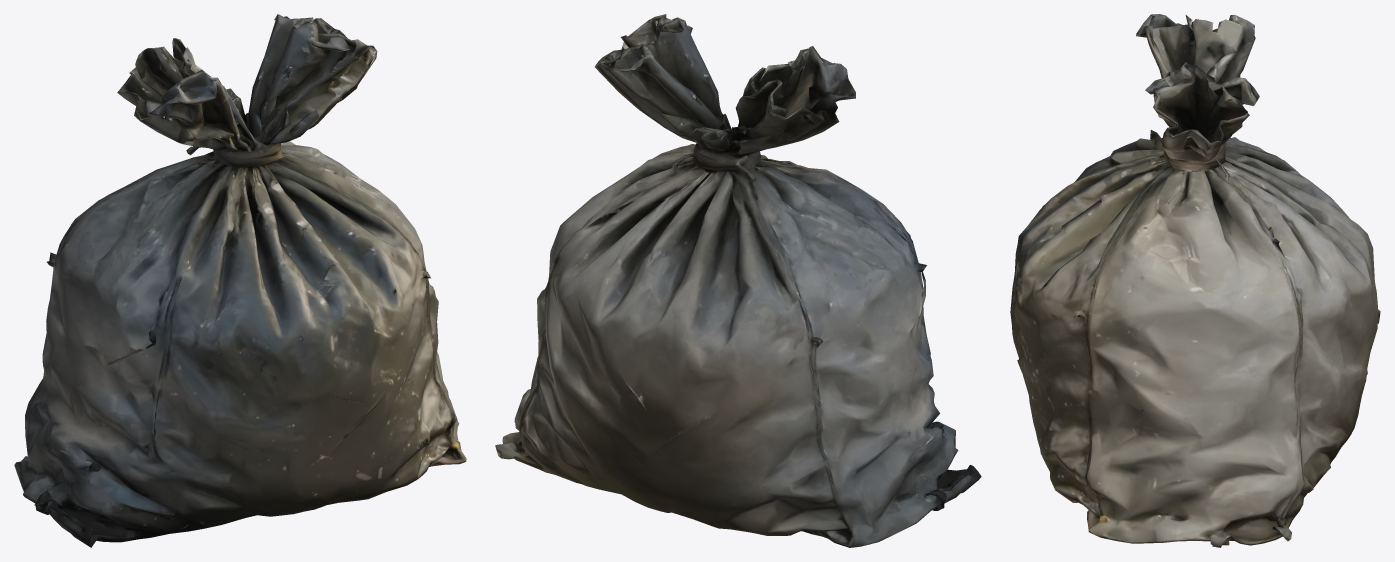
Rendered from tripo_convert_4ac51ba8-2ea8-4afa-92f5-a272a711c766.fbx.
The picture shows the model from 3 angles, left to right: view 1: azimuth 30°, elevation 25°; view 2: azimuth 150°, elevation 25°; view 3: azimuth 270°, elevation 25°; orthographic projection. The views are drawn at different scales.
Parts seen in each view (by area): view 1: tripo_node_4ac51ba8; view 2: tripo_node_4ac51ba8; view 3: tripo_node_4ac51ba8.
Boxes of the visible parts, bbox=[...] form: tripo_node_4ac51ba8: bbox=[14, 14, 466, 547]; tripo_node_4ac51ba8: bbox=[495, 14, 981, 547]; tripo_node_4ac51ba8: bbox=[1010, 14, 1380, 547].
Bounding box in the file's own units: 1 × 0.9991 × 0.79.
1 material, 1 textured.
